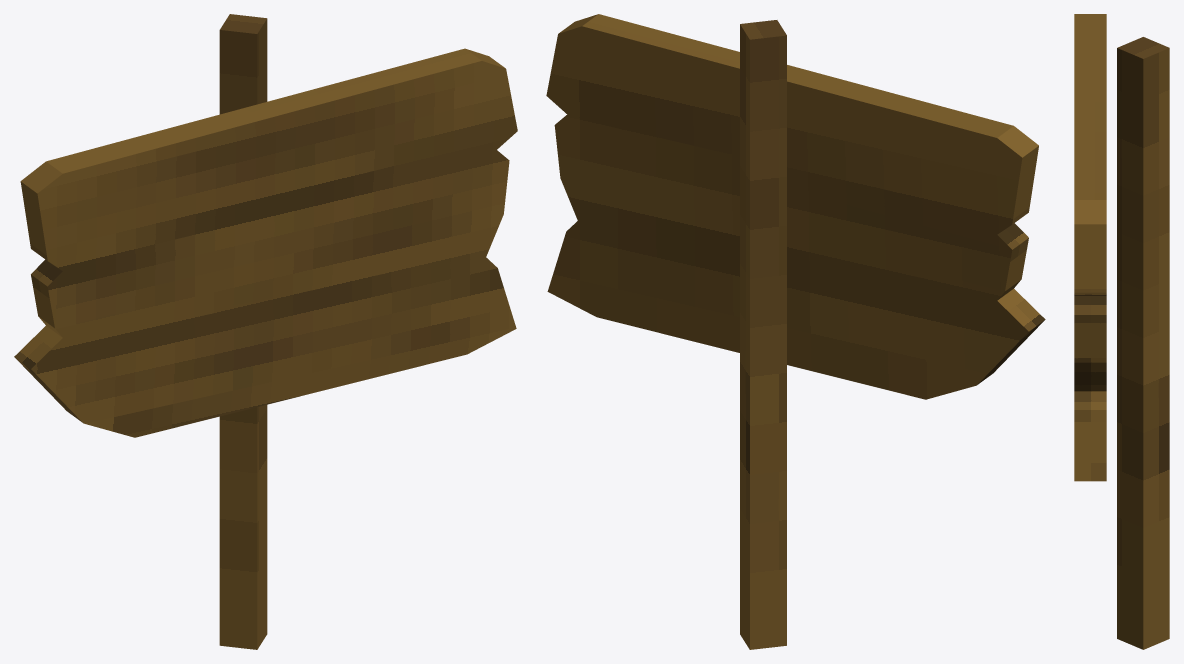
The model's file is Sign.gltf.
The picture shows the model from 3 angles, left to right: view 1: azimuth 30°, elevation 25°; view 2: azimuth 150°, elevation 25°; view 3: azimuth 270°, elevation 25°; orthographic projection. The views are drawn at different scales.
Parts seen in each view (by area): view 1: Panel, Stick; view 2: Panel, Stick; view 3: Stick, Panel.
Boxes of the visible parts, box(x1,y1,x2,y2) form: Panel: box(14, 48, 517, 437); Stick: box(219, 14, 267, 649); Panel: box(546, 14, 1045, 399); Stick: box(740, 20, 786, 649); Stick: box(1117, 37, 1169, 649); Panel: box(1074, 14, 1106, 481).
Size of the model in its own units: 3.07 by 3.71 by 0.5441.
1 material, 1 textured.
